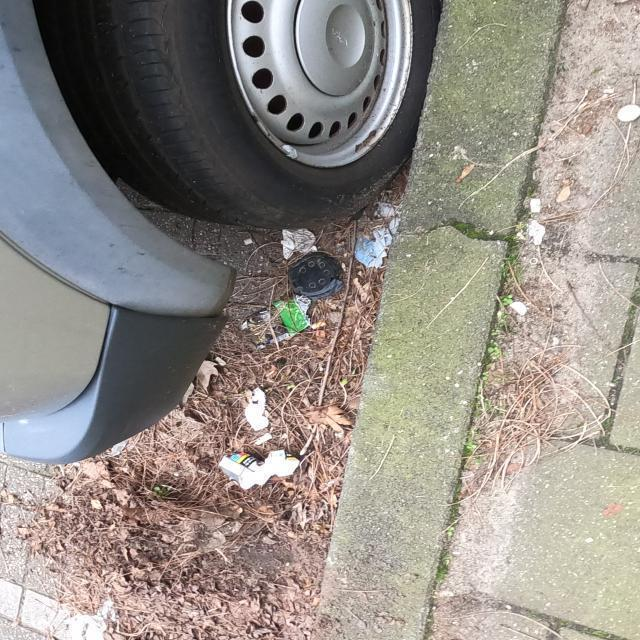Mask: (337, 200, 401, 270)
Paper: (240, 294, 310, 351), (216, 448, 301, 492), (280, 227, 318, 260), (244, 387, 270, 432)
